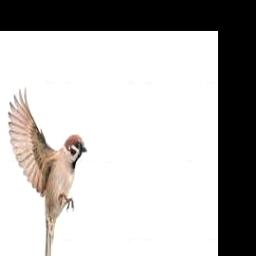Sparrow: (8, 86, 87, 256)
